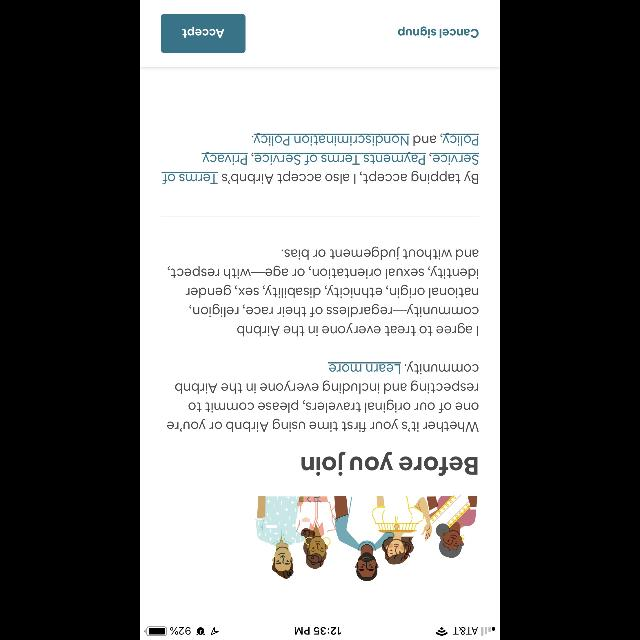image: (255, 495, 477, 581)
text: (167, 246, 478, 336), (167, 362, 478, 432), (162, 133, 478, 185), (301, 451, 477, 475), (398, 26, 478, 38)
textbutton: (161, 13, 245, 52)
uppertaskbar: (140, 626, 500, 640)
